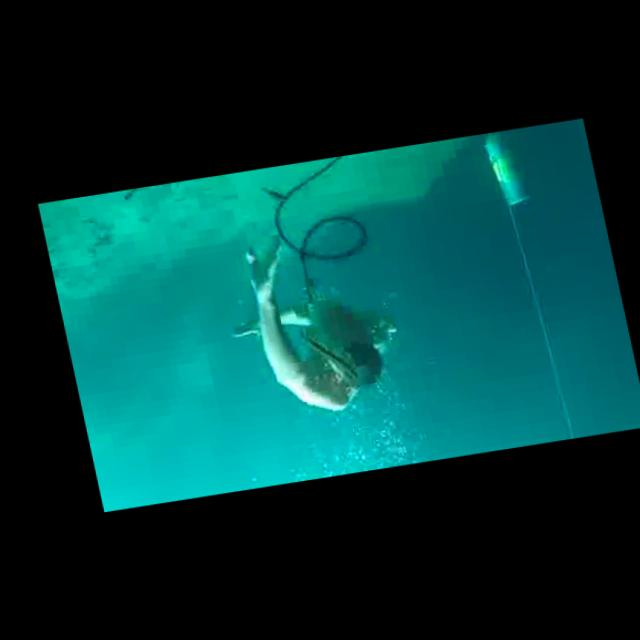human: (205, 216, 416, 431)
